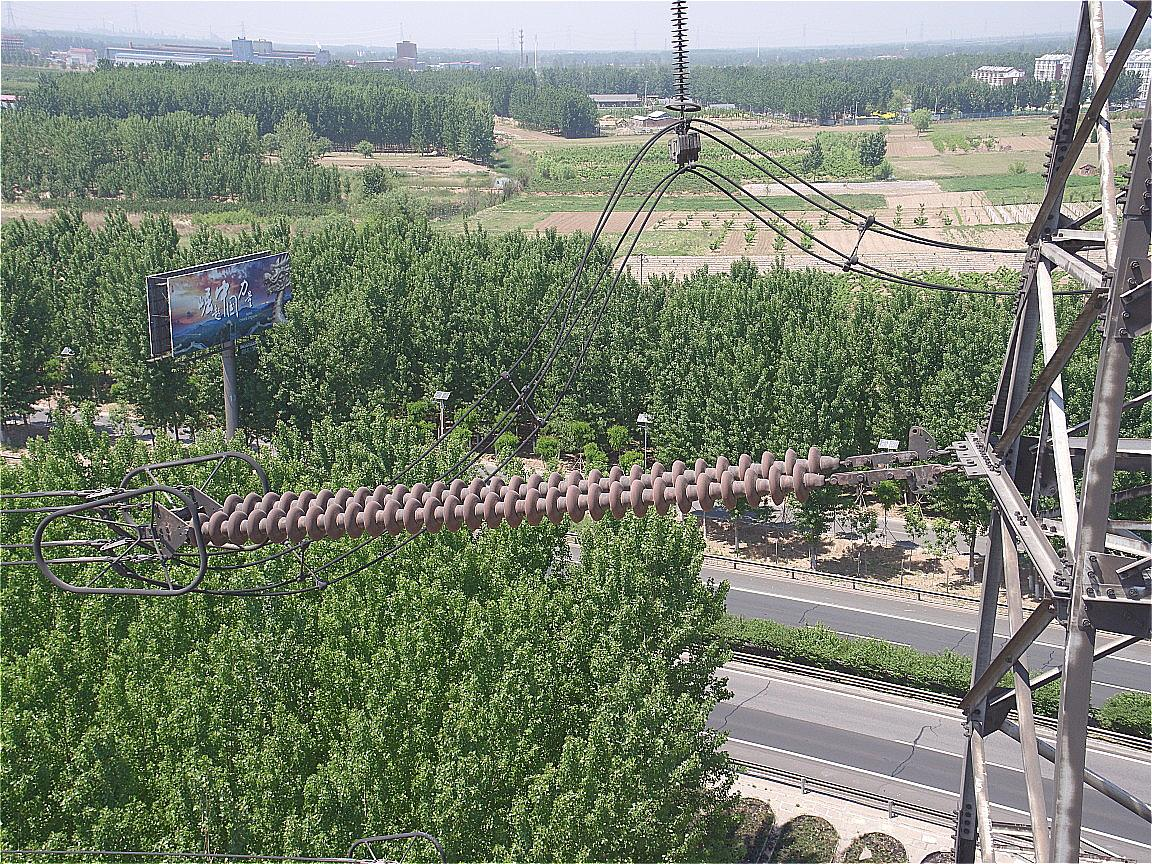insultor1: (184, 444, 864, 584)
